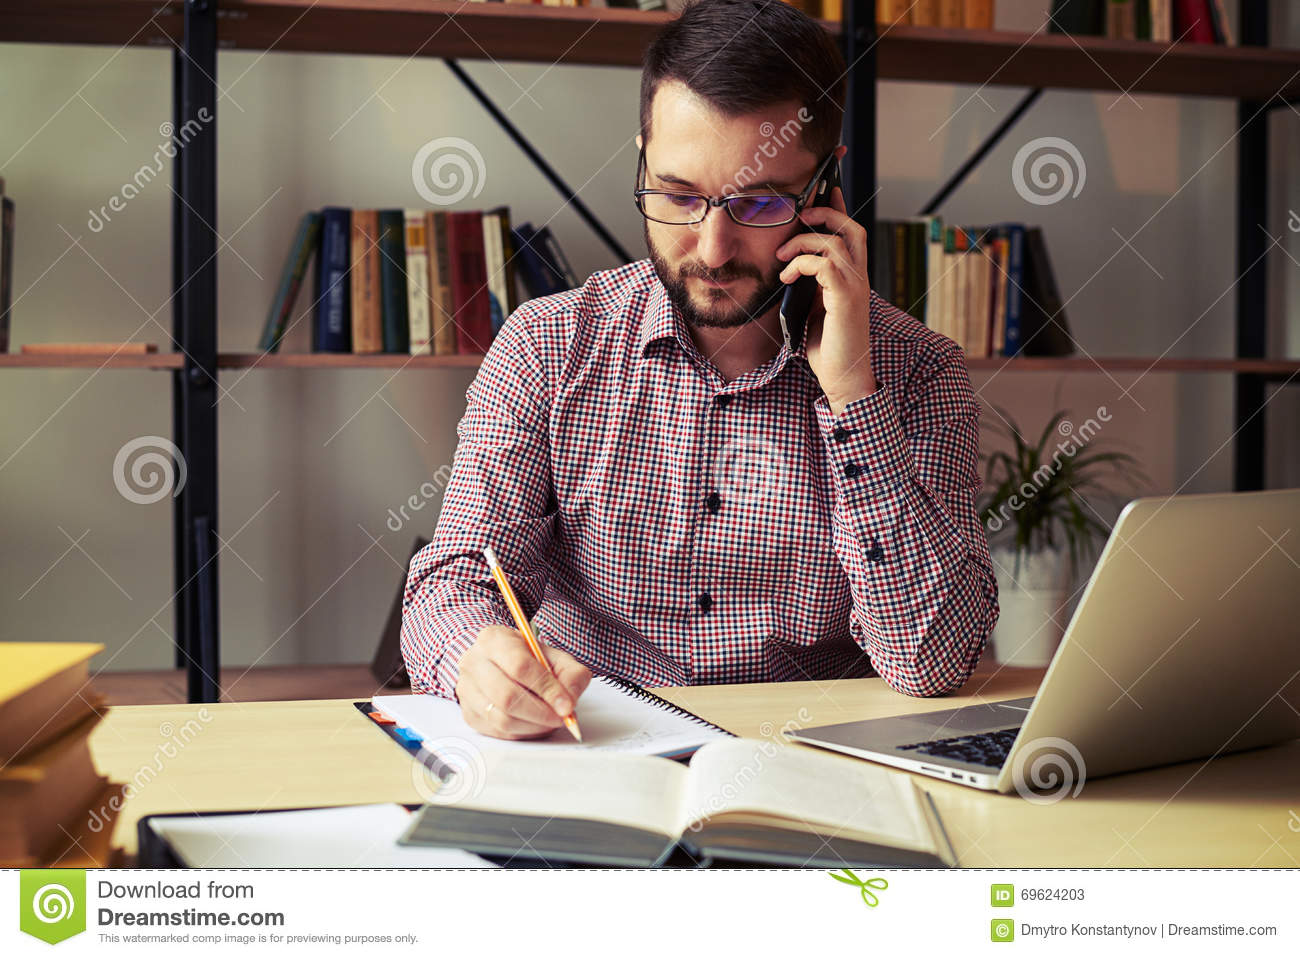phone: (781, 180, 841, 359)
talk: (641, 158, 871, 407)
